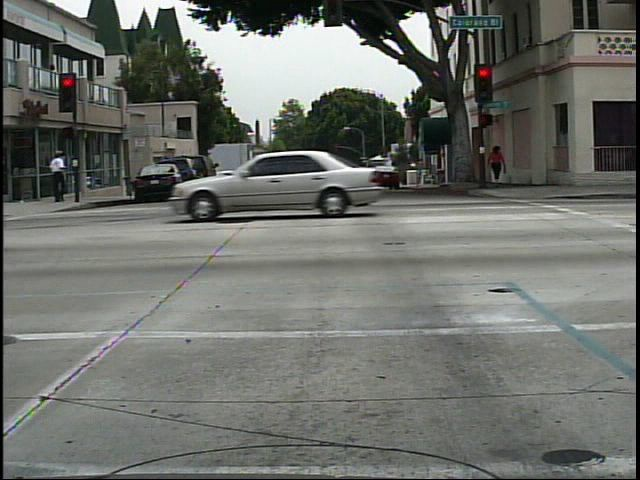person: (486, 137, 513, 194), (50, 144, 71, 207)
